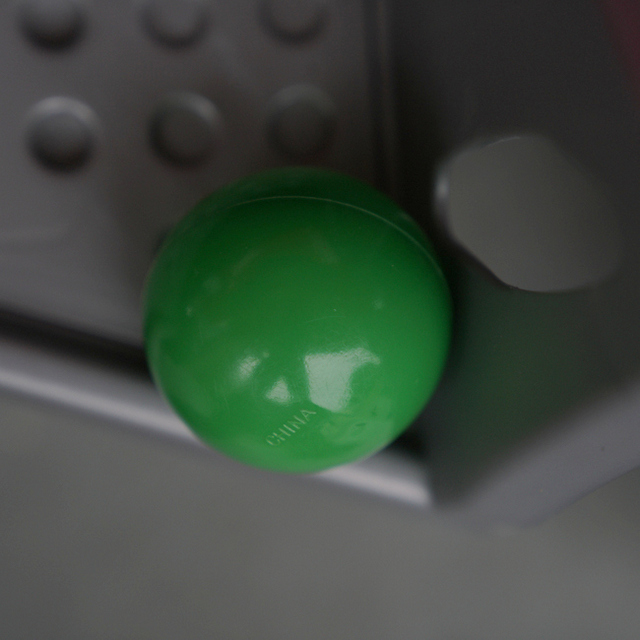Ball: (142, 173, 452, 475)
